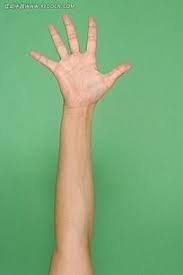palm: (29, 12, 134, 112)
